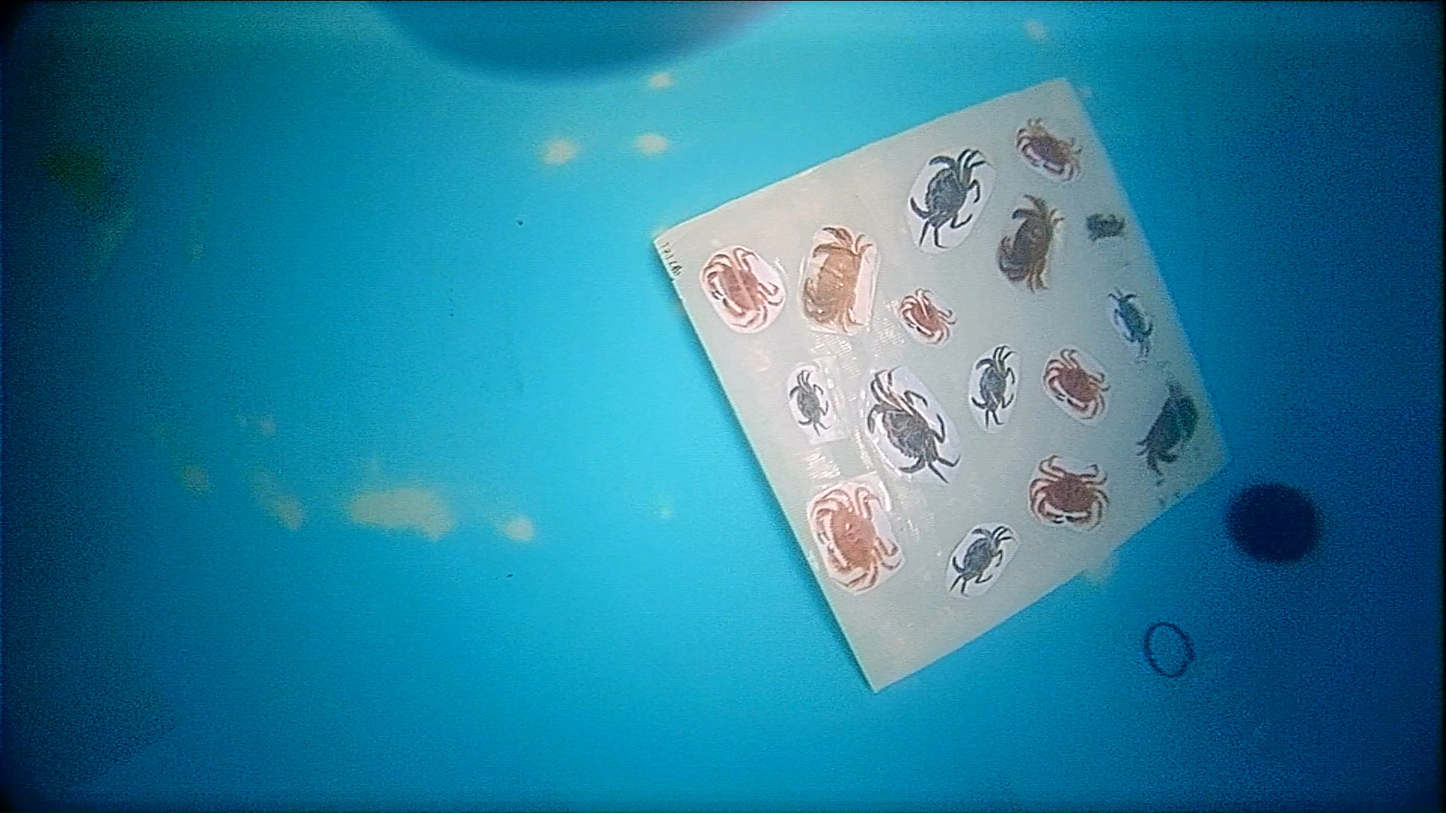GreenCrab: (866, 368, 957, 482), (910, 150, 985, 247), (951, 526, 1013, 595), (971, 346, 1014, 428), (789, 370, 828, 433)
